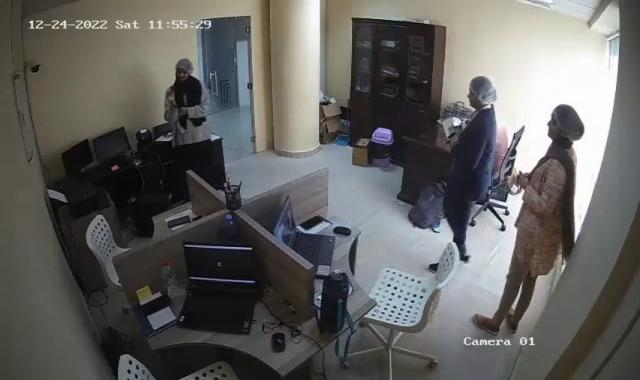hairnet: (544, 103, 588, 143), (466, 74, 498, 108), (171, 53, 196, 81)
